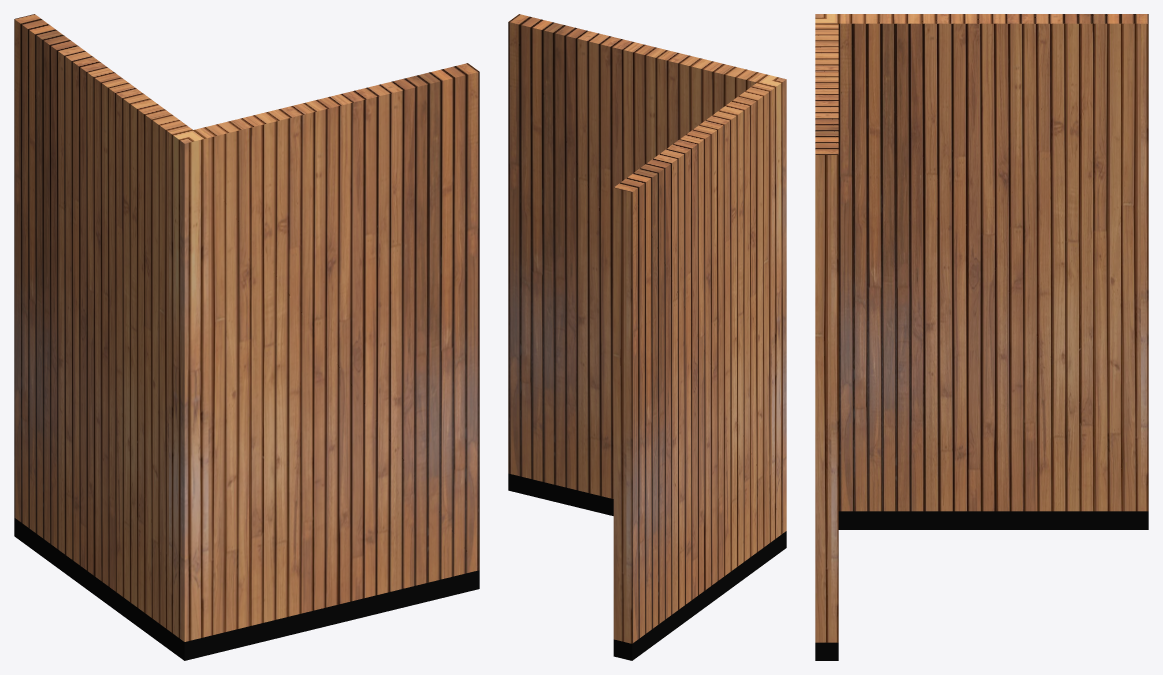
Rendered from ARC0210022.fbx.
3 renders of one model, left to right at view 1: azimuth 30°, elevation 25°; view 2: azimuth 150°, elevation 25°; view 3: azimuth 270°, elevation 25°, orthographic. The views are drawn at different scales.
Visible parts, largest first — view 1: smARC0210022; view 2: smARC0210022; view 3: smARC0210022.
Boxes of the visible parts, left/top/right/bottom form: smARC0210022: left=14, top=14, right=479, bottom=660; smARC0210022: left=508, top=14, right=786, bottom=660; smARC0210022: left=815, top=14, right=1148, bottom=660.
Bounding box in the file's own units: 196 × 328 × 196.
Materials: 1 (1 with a texture image).
